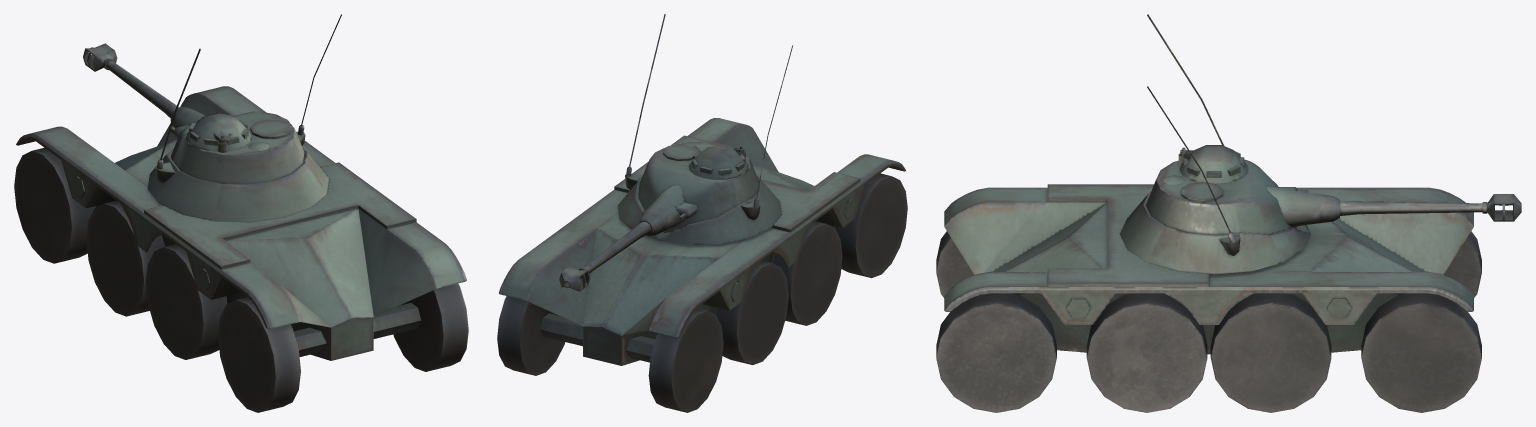
File: EBR-90.fbx
3 views of the same model, side by side, from view 1: azimuth 30°, elevation 25°; view 2: azimuth 150°, elevation 25°; view 3: azimuth 270°, elevation 25° (orthographic). The views are drawn at different scales.
Visible parts, largest first — view 1: EBR-90 Hull, EBR-90 Turret; view 2: EBR-90 Hull, EBR-90 Turret; view 3: EBR-90 Hull, EBR-90 Turret.
Part boxes in pixels (bbox=[...]): EBR-90 Hull: bbox=[14, 86, 468, 412]; EBR-90 Turret: bbox=[83, 14, 341, 222]; EBR-90 Hull: bbox=[497, 118, 907, 412]; EBR-90 Turret: bbox=[559, 14, 792, 291]; EBR-90 Hull: bbox=[936, 184, 1481, 412]; EBR-90 Turret: bbox=[1120, 14, 1521, 274].
Size of the model in its own units: 2.44 by 3.49 by 5.9.
